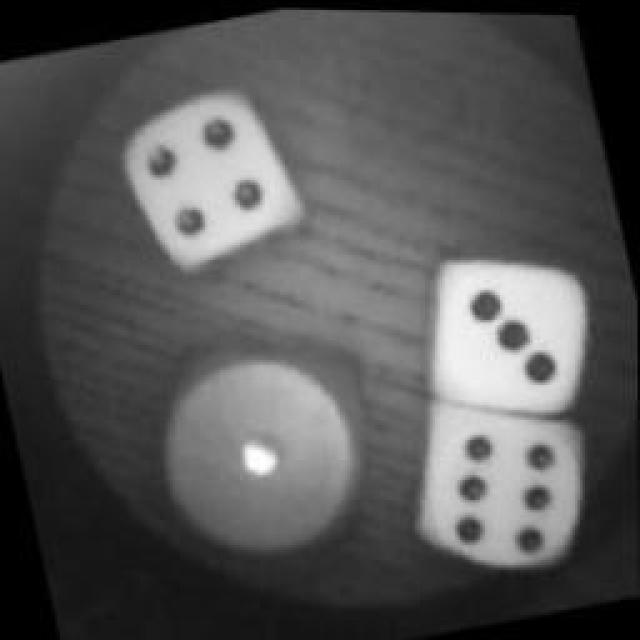dice_1: (134, 309, 404, 579)
dice_3: (410, 231, 615, 424)
dice_4: (96, 65, 316, 285)
dice_6: (402, 385, 612, 587)
